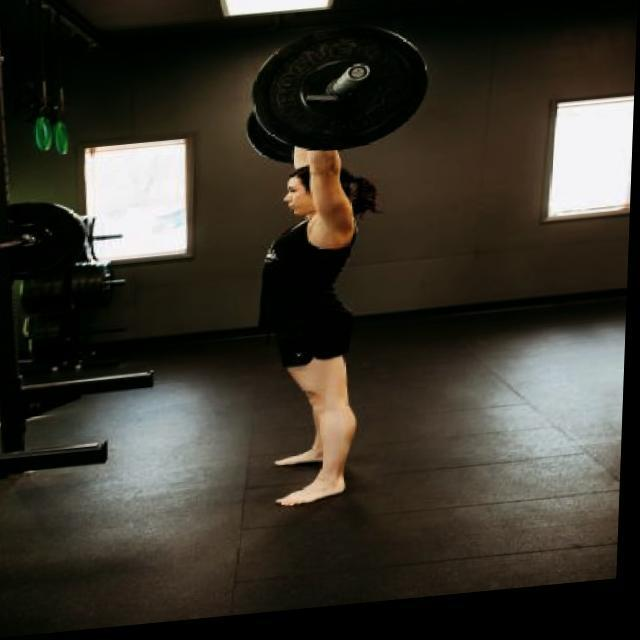barbell: (244, 29, 436, 172)
